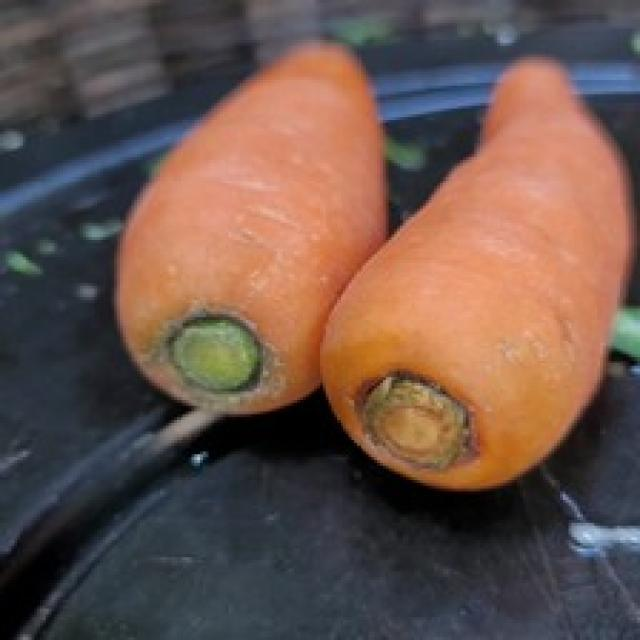carrot: (329, 55, 637, 496), (107, 41, 385, 420)
